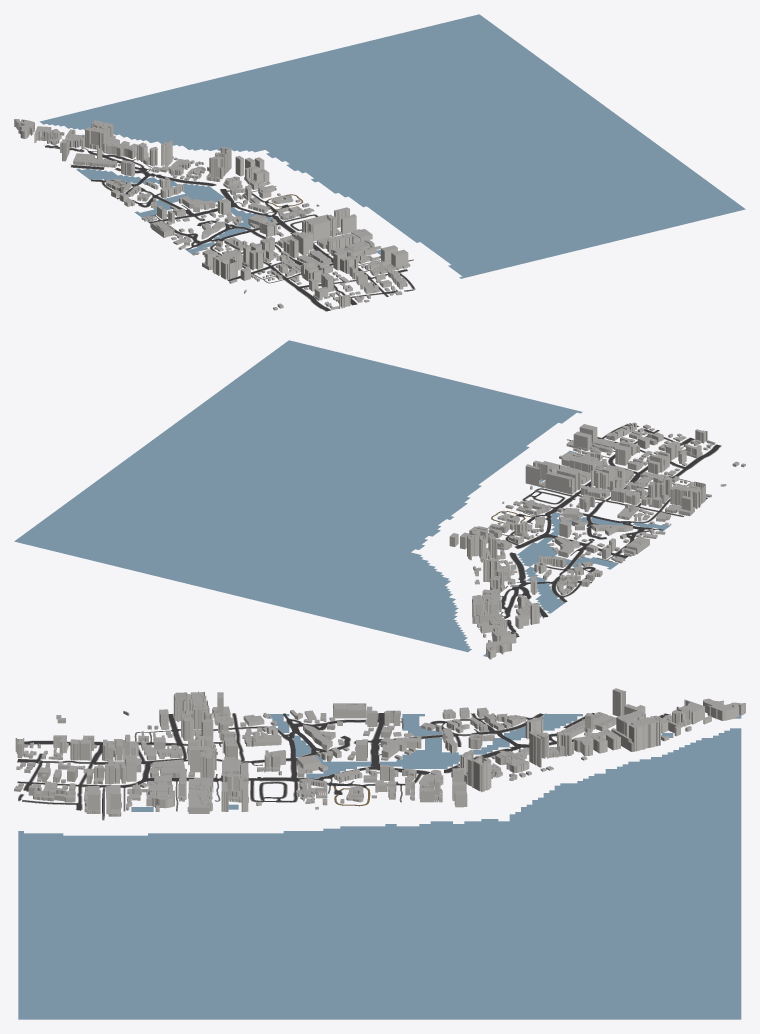
The model's file is chunk_9_4.glb.
3 renders of one model, top to bottom at view 1: azimuth 30°, elevation 25°; view 2: azimuth 150°, elevation 25°; view 3: azimuth 270°, elevation 25°, orthographic. The views are drawn at different scales.
Parts seen in each view (by area): view 1: Water_9_4, Buildings_9_4, Roads_9_4, RoadSides_9_4, Filler_9_4; view 2: Water_9_4, Buildings_9_4, Roads_9_4, RoadSides_9_4, Filler_9_4; view 3: Water_9_4, Buildings_9_4, Roads_9_4, RoadSides_9_4, Filler_9_4.
Part boxes in pixels (bbox=[...]): Water_9_4: bbox=[40, 14, 745, 278]; Buildings_9_4: bbox=[14, 119, 410, 310]; Roads_9_4: bbox=[45, 145, 414, 311]; RoadSides_9_4: bbox=[43, 145, 415, 311]; Filler_9_4: bbox=[103, 156, 402, 302]; Water_9_4: bbox=[14, 340, 669, 656]; Buildings_9_4: bbox=[467, 422, 745, 659]; Roads_9_4: bbox=[488, 423, 720, 637]; RoadSides_9_4: bbox=[500, 423, 721, 637]; Filler_9_4: bbox=[449, 424, 687, 607]; Water_9_4: bbox=[18, 714, 741, 1019]; Buildings_9_4: bbox=[15, 688, 745, 816]; Roads_9_4: bbox=[17, 713, 668, 820]; RoadSides_9_4: bbox=[17, 713, 670, 810]; Filler_9_4: bbox=[14, 710, 589, 807].
Size of the model in its own units: 2086 by 92.12 by 2073.
